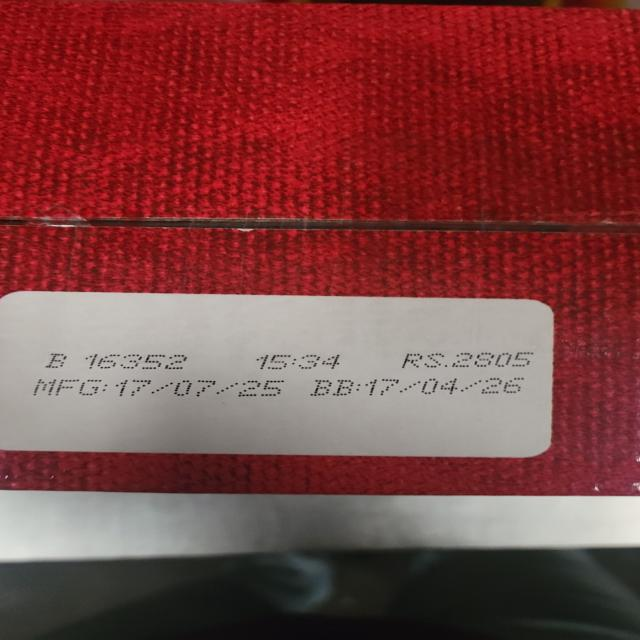BB: (312, 373, 536, 403)
Batch: (44, 346, 194, 372)
MFG: (30, 376, 300, 401)
RS: (402, 346, 540, 372)
TimeStamp: (252, 349, 347, 374)
